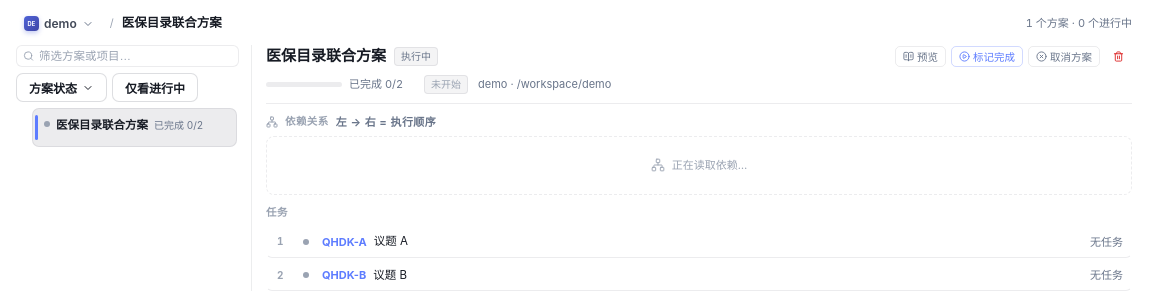
Test: PlanBoard — 专注单方案的看板 › 筛选无结果时左栏显示空态并可清除筛选
This screenshot has width=1149, height=308.
Type "不存在的方案" into the field with placeholder "筛选方案或项目…" at (128, 56), box 16,45 -> 239,67
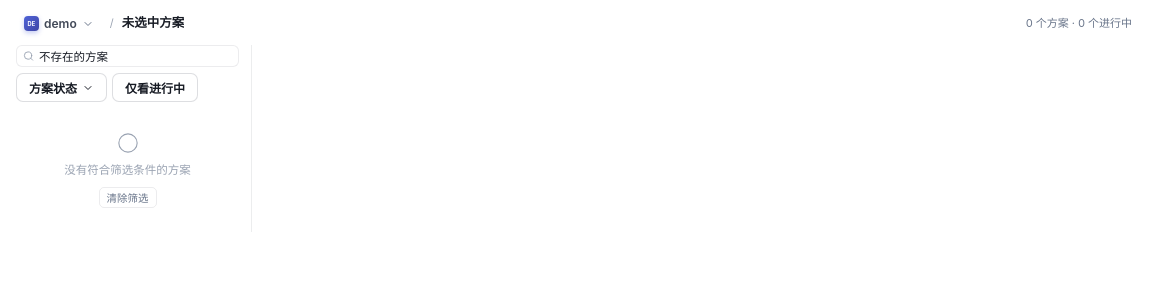
expect the text "没有符合筛选条件的方案" is shown: met, box 64,162 -> 191,179
Click the button "清除筛选" at (128, 198), box 98,187 -> 156,208
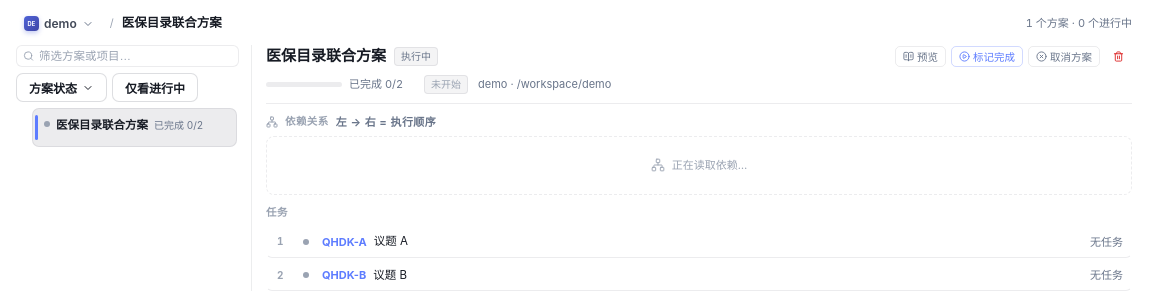
expect the button "医保目录联合方案 已完成 0/2" is shown: met, box 32,108 -> 237,147
expect the text "没有符合筛选条件的方案" is gone: met
